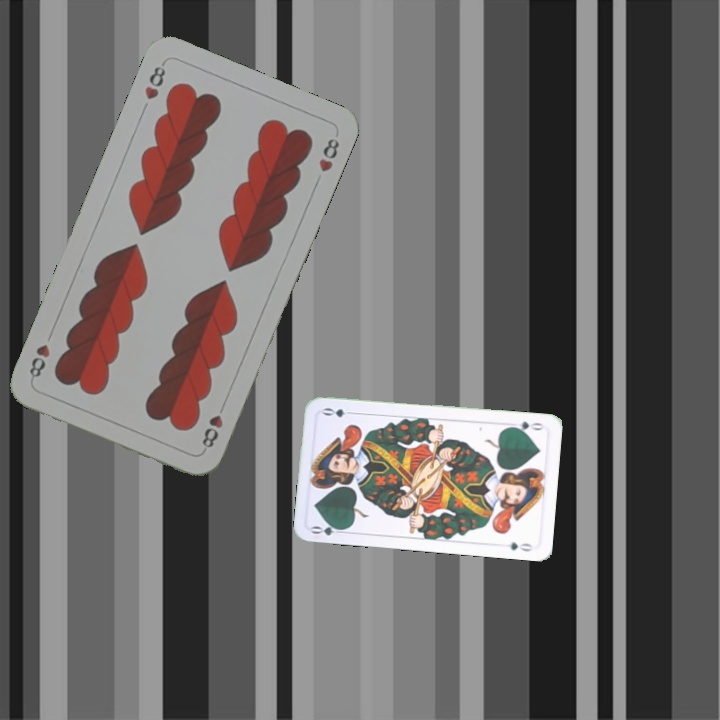GO: (308, 519, 349, 538), (505, 417, 546, 434)
H8: (140, 58, 169, 102), (198, 411, 226, 453)
